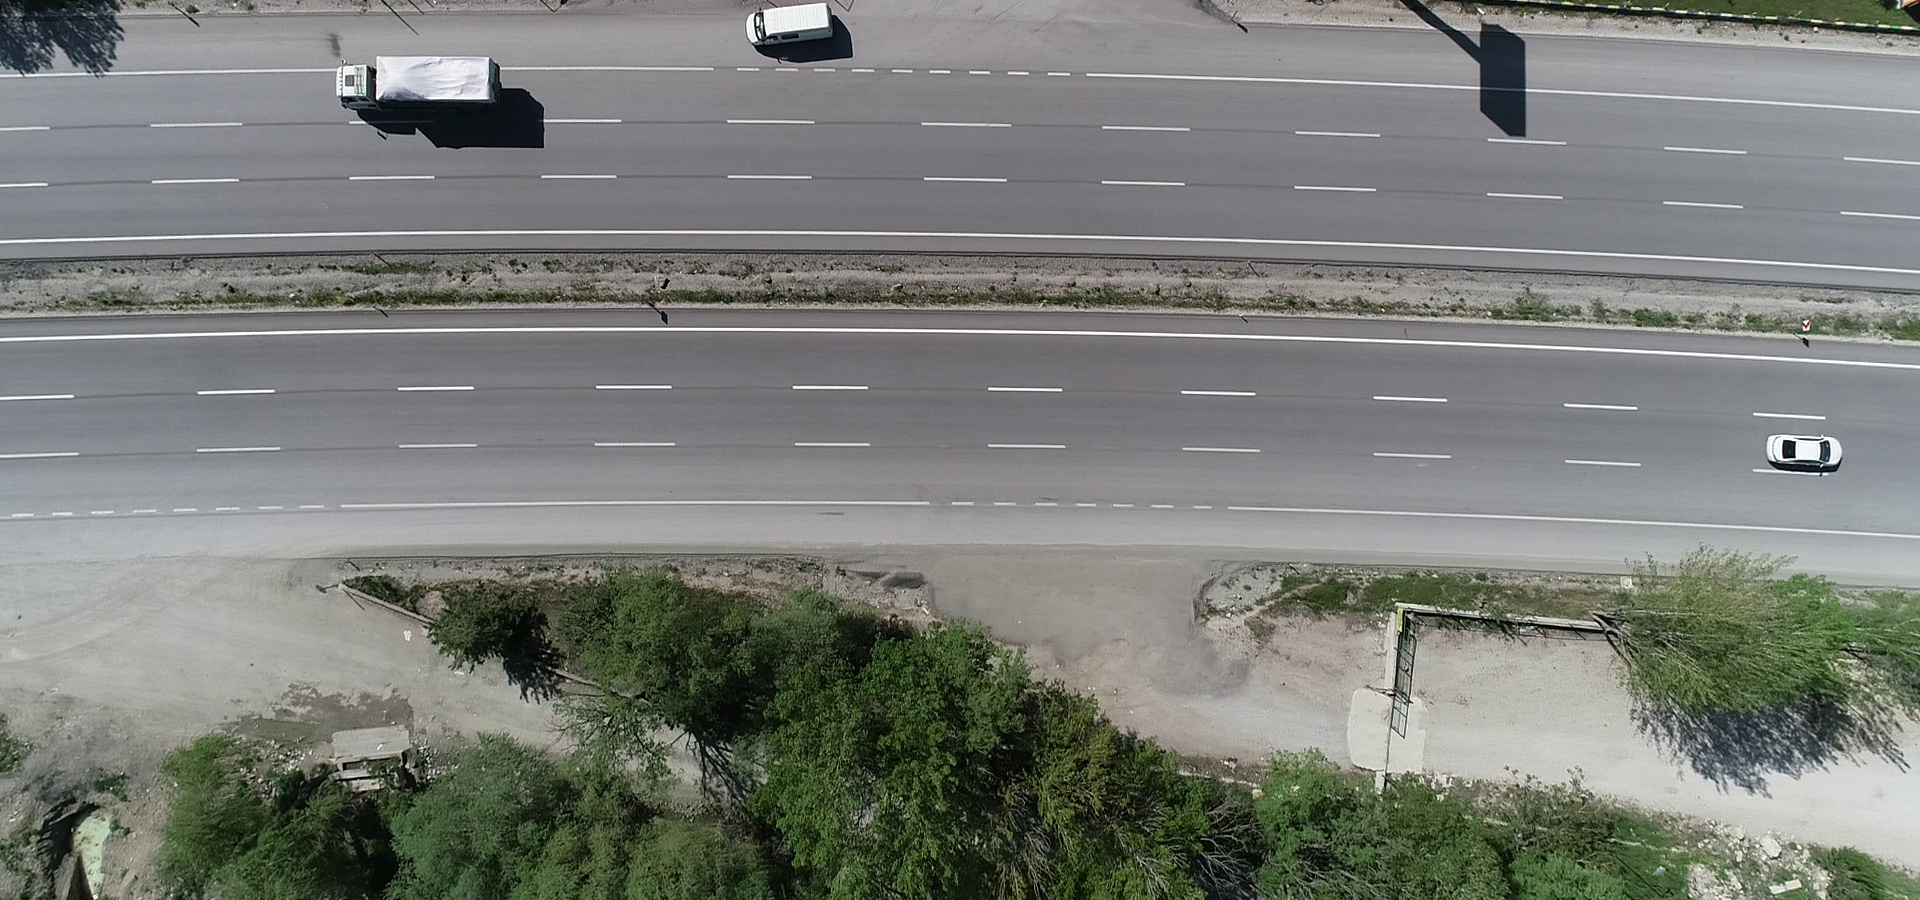arac: (331, 49, 512, 115), (733, 1, 855, 53), (1762, 429, 1848, 474)
